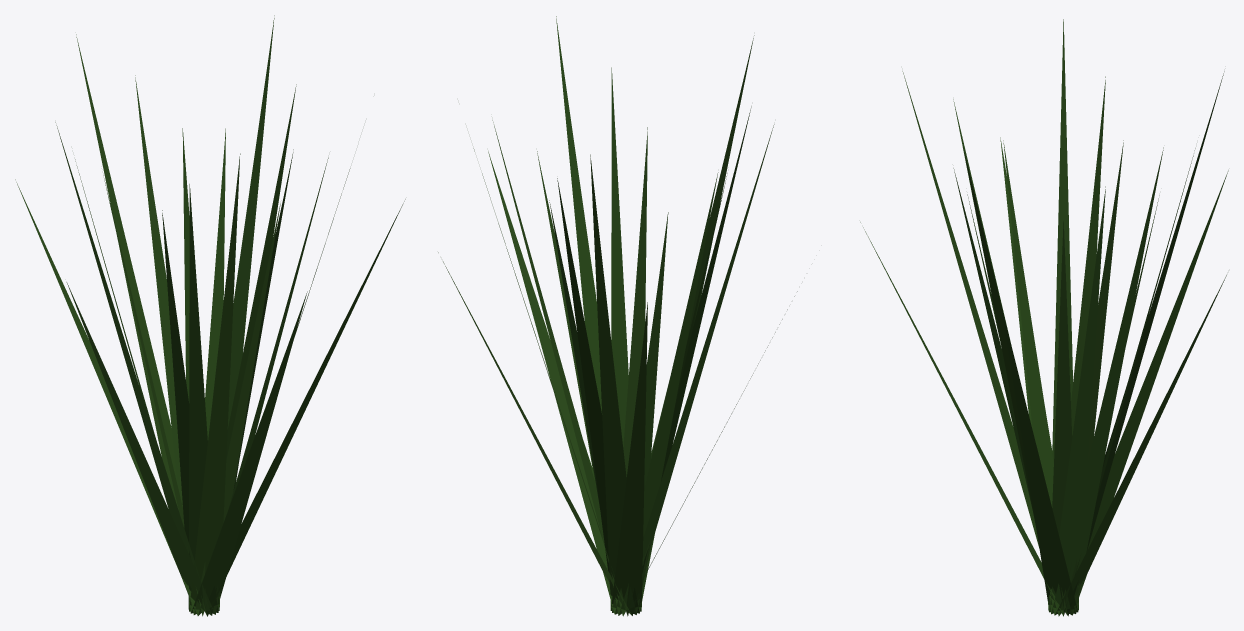
Rendered from perennial-tuft.lod0.glb.
3 views of the same model, side by side, from view 1: azimuth 30°, elevation 25°; view 2: azimuth 150°, elevation 25°; view 3: azimuth 270°, elevation 25° (orthographic).
Visible parts, largest first — view 1: perennial-tuft-leaves; view 2: perennial-tuft-leaves; view 3: perennial-tuft-leaves.
Boxes of the visible parts, x1,y1,x2,y2 form: perennial-tuft-leaves: [15, 15, 405, 616]; perennial-tuft-leaves: [438, 16, 797, 616]; perennial-tuft-leaves: [860, 19, 1228, 616].
Bounding box in the file's own units: 0.3043 × 0.45 × 0.2894.
